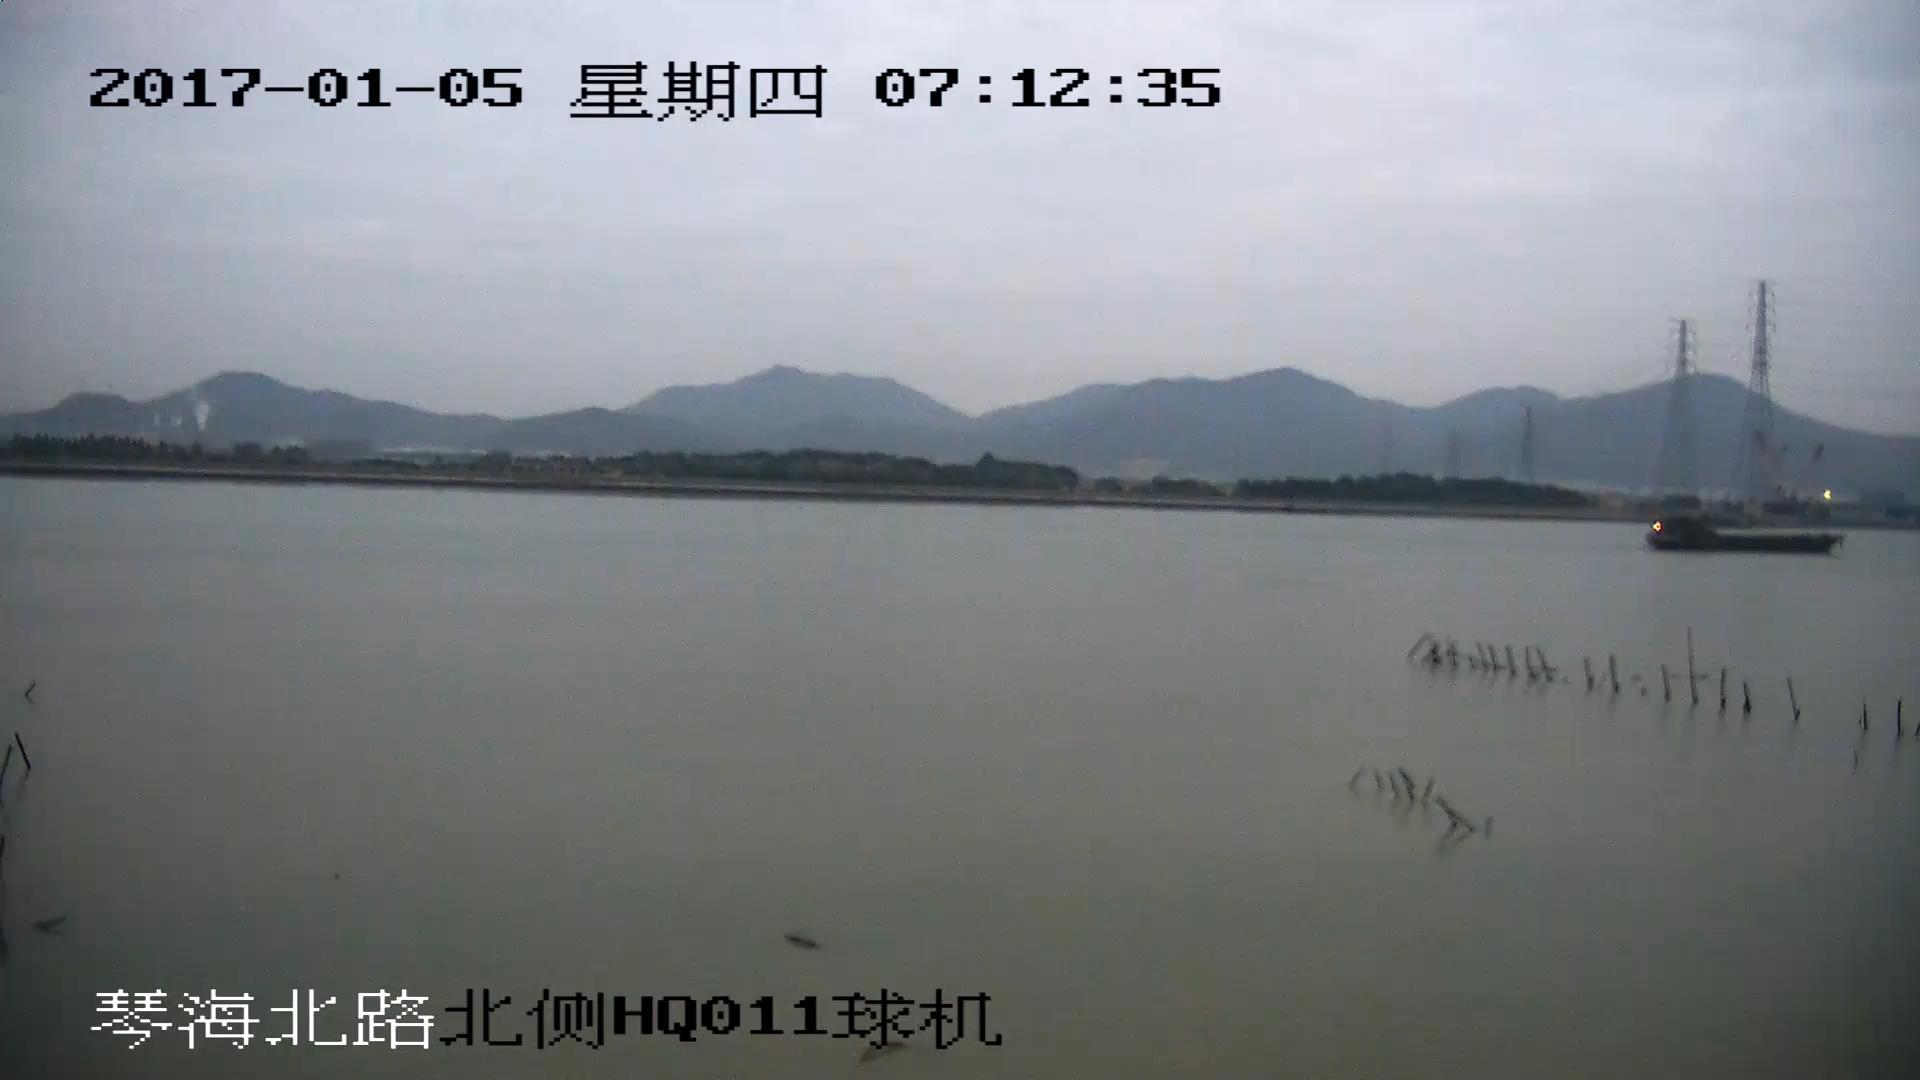Ship: (1642, 521, 1845, 558)
